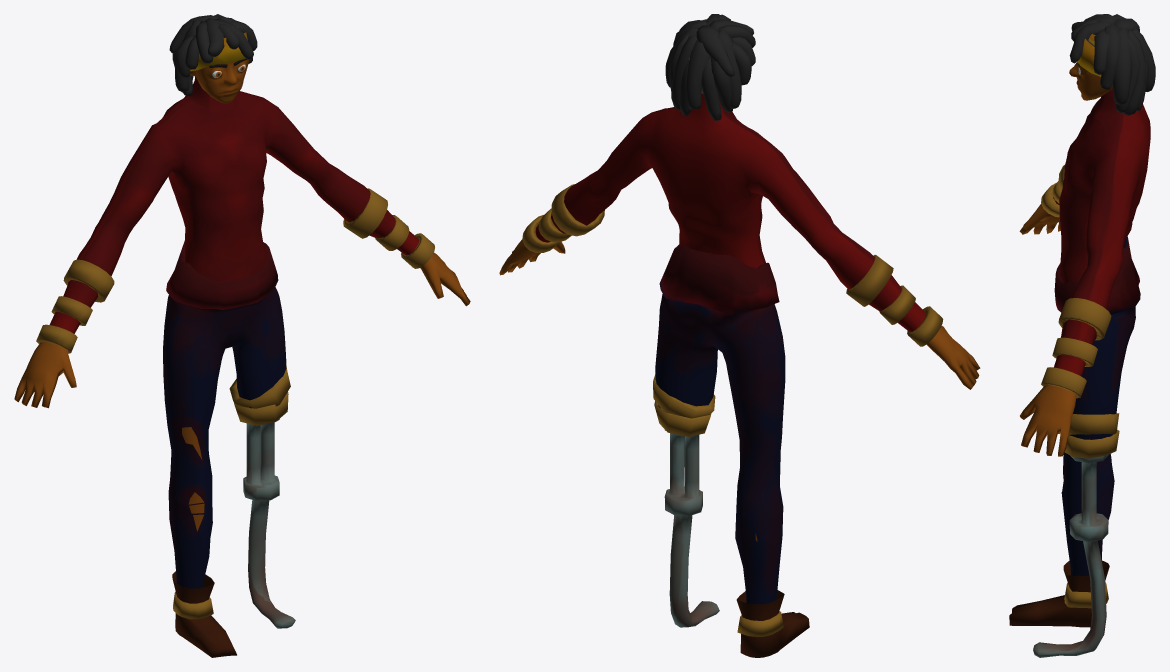
The model's file is characterM.fbx.
3 renders of one model, left to right at view 1: azimuth 30°, elevation 25°; view 2: azimuth 150°, elevation 25°; view 3: azimuth 270°, elevation 25°, orthographic. The views are drawn at different scales.
Parts seen in each view (by area): view 1: Plane.002, Plane.001, Plane, Circle.003, Circle.004, Cube, Circle.002, Plane.003; view 2: Plane.001, Plane.002, Cube, Circle.004, Circle.003, Circle.002, Plane.003, Plane; view 3: Plane.002, Plane.001, Cube, Circle.004, Plane, Circle.003, Circle.002, Plane.003, Circle.005.
Boxes of the visible parts, bbox=[...] form: Plane.002: bbox=[49, 76, 419, 333]; Plane.001: bbox=[163, 240, 286, 588]; Plane: bbox=[14, 59, 470, 531]; Circle.003: bbox=[36, 188, 434, 353]; Circle.004: bbox=[243, 419, 295, 628]; Cube: bbox=[169, 14, 257, 96]; Circle.002: bbox=[173, 366, 290, 619]; Plane.003: bbox=[172, 571, 236, 657]; Plane.001: bbox=[655, 244, 785, 604]; Plane.002: bbox=[535, 93, 926, 332]; Cube: bbox=[665, 14, 755, 120]; Circle.004: bbox=[664, 429, 719, 627]; Circle.003: bbox=[522, 184, 943, 346]; Circle.002: bbox=[653, 373, 783, 636]; Plane.003: bbox=[736, 590, 809, 657]; Plane: bbox=[499, 239, 980, 541]; Plane.002: bbox=[1053, 89, 1150, 376]; Plane.001: bbox=[1054, 236, 1140, 575]; Cube: bbox=[1069, 14, 1155, 115]; Circle.004: bbox=[1033, 455, 1108, 657]; Plane: bbox=[1019, 62, 1112, 456]; Circle.003: bbox=[1041, 165, 1111, 398]; Circle.002: bbox=[1064, 413, 1119, 608]; Plane.003: bbox=[1009, 560, 1109, 627]; Circle.005: bbox=[1077, 34, 1101, 76].
Size of the model in its own units: 1032 by 1312 by 281.
Materials: 11 (11 with a texture image).
